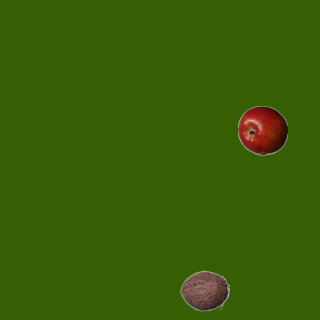Apple Braeburn: (237, 105, 287, 155)
Cocos: (179, 265, 229, 315)
